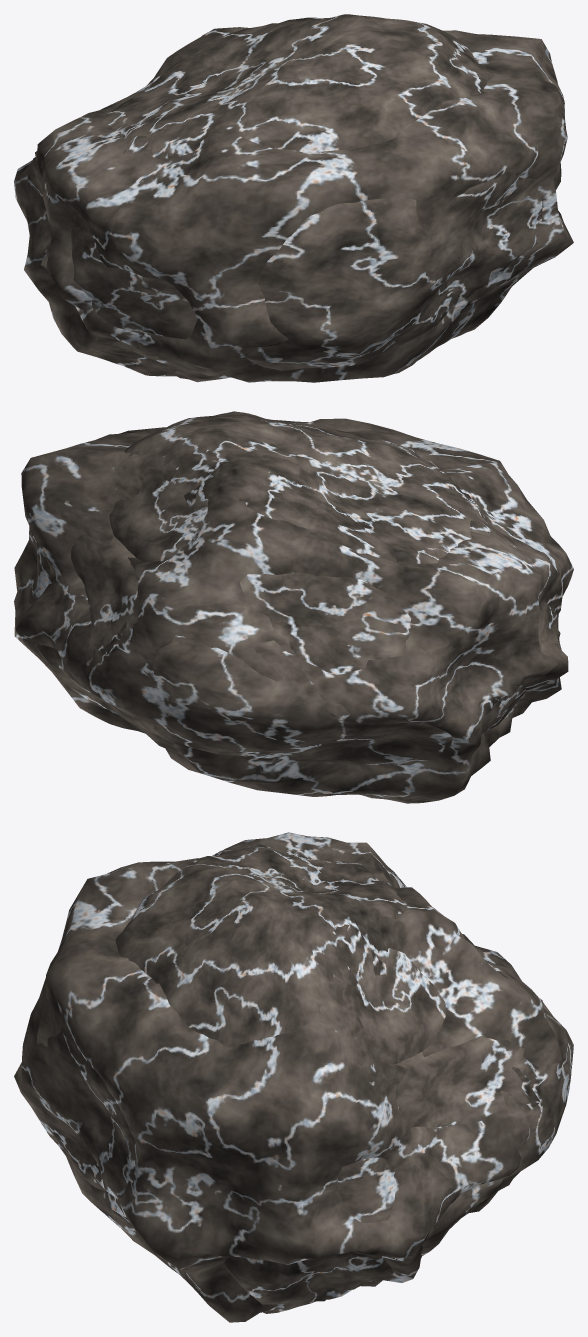
File: asteroids.glb
3 views of the same model, one above another, from view 1: azimuth 30°, elevation 25°; view 2: azimuth 150°, elevation 25°; view 3: azimuth 270°, elevation 25° (orthographic). The views are drawn at different scales.
Visible parts, largest first — view 1: Asteroid_4, Asteroid_1, Asteroid_3; view 2: Asteroid_4, Asteroid_1, Asteroid_3; view 3: Asteroid_4, Asteroid_3, Asteroid_1.
Part boxes in pixels (x1,y1,x2,y2): Asteroid_4: (14,17,573,382); Asteroid_1: (71,170,542,370); Asteroid_3: (102,14,494,382); Asteroid_4: (14,418,573,803); Asteroid_1: (29,534,561,765); Asteroid_3: (109,411,525,733); Asteroid_4: (37,832,562,1322); Asteroid_3: (115,847,445,1313); Asteroid_1: (14,963,573,1256).
Size of the model in its own units: 2.52 by 1.53 by 2.03.
1 material, 1 textured.
